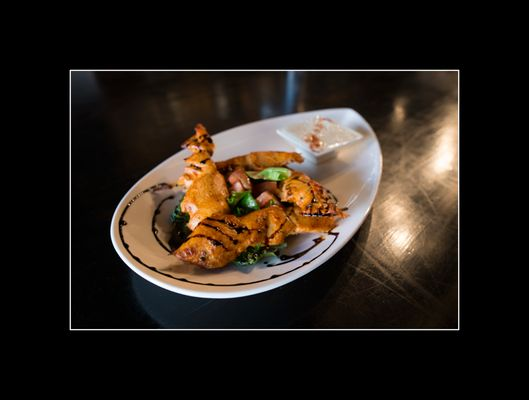curry: (77, 70, 459, 332)
